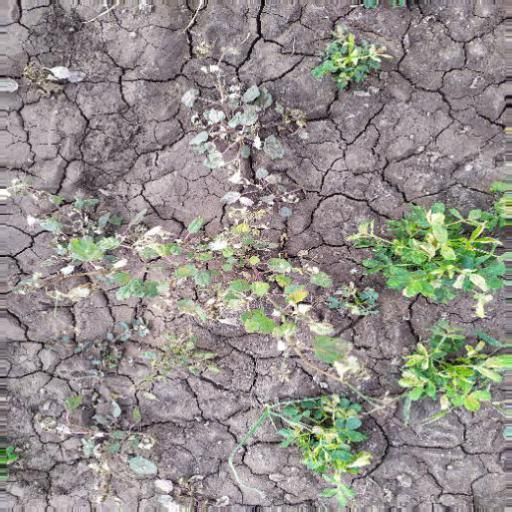weed: (38, 179, 363, 373), (370, 200, 512, 308), (254, 383, 376, 505), (383, 323, 512, 422)
